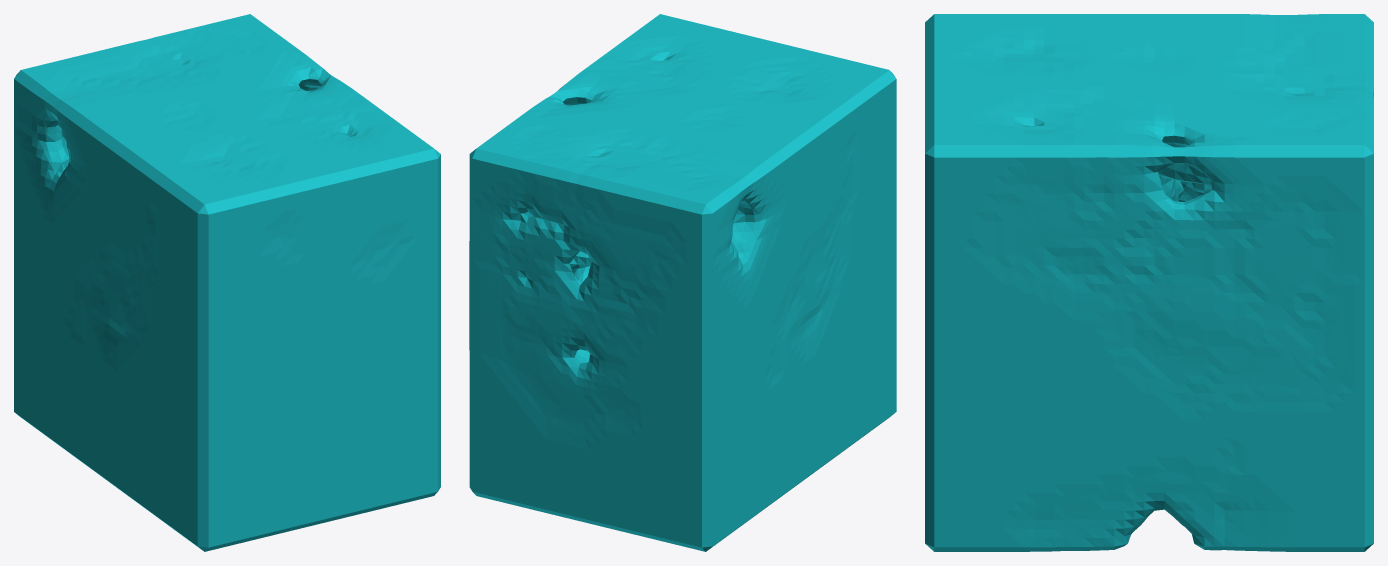
3 renders of one model, left to right at view 1: azimuth 30°, elevation 25°; view 2: azimuth 150°, elevation 25°; view 3: azimuth 270°, elevation 25°, orthographic. The views are drawn at different scales.
Visible parts, largest first — view 1: Liquid_Domain; view 2: Liquid_Domain; view 3: Liquid_Domain.
Boxes of the visible parts, x1,y1,x2,y2 form: Liquid_Domain: (14, 14, 440, 551); Liquid_Domain: (469, 14, 896, 551); Liquid_Domain: (925, 14, 1373, 551).
Size of the model in its own units: 79.09 by 108 by 108.
